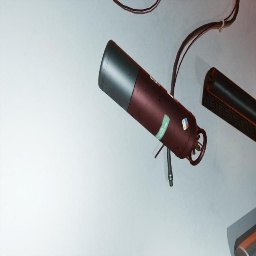0: (234, 231, 256, 256)
NitrogenTank ,: (98, 39, 207, 166)
